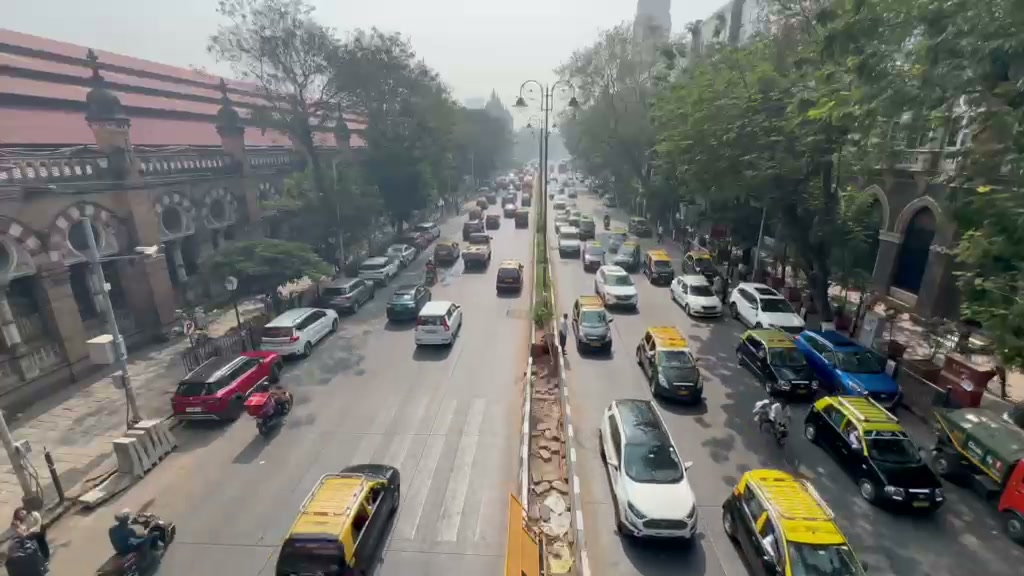car: (802, 394, 946, 515), (721, 467, 869, 574), (598, 397, 700, 545), (274, 463, 402, 575), (793, 328, 904, 409), (929, 404, 1023, 497), (170, 349, 284, 423), (734, 326, 816, 400), (635, 324, 702, 404), (257, 306, 340, 359), (729, 282, 806, 331), (669, 273, 725, 319), (996, 458, 1024, 546), (573, 295, 614, 355), (316, 275, 375, 316), (412, 300, 463, 347), (594, 265, 640, 313), (385, 285, 431, 326), (357, 255, 400, 285)
motorcycle: (103, 510, 176, 575), (252, 383, 293, 438)
pedestrian: (1, 508, 51, 575)
truck: (802, 394, 946, 514)
